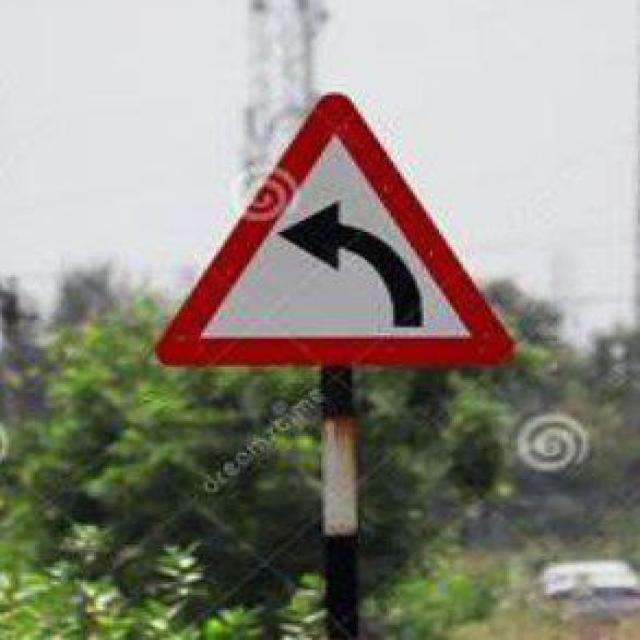left_hand_curve: (149, 98, 531, 363)
